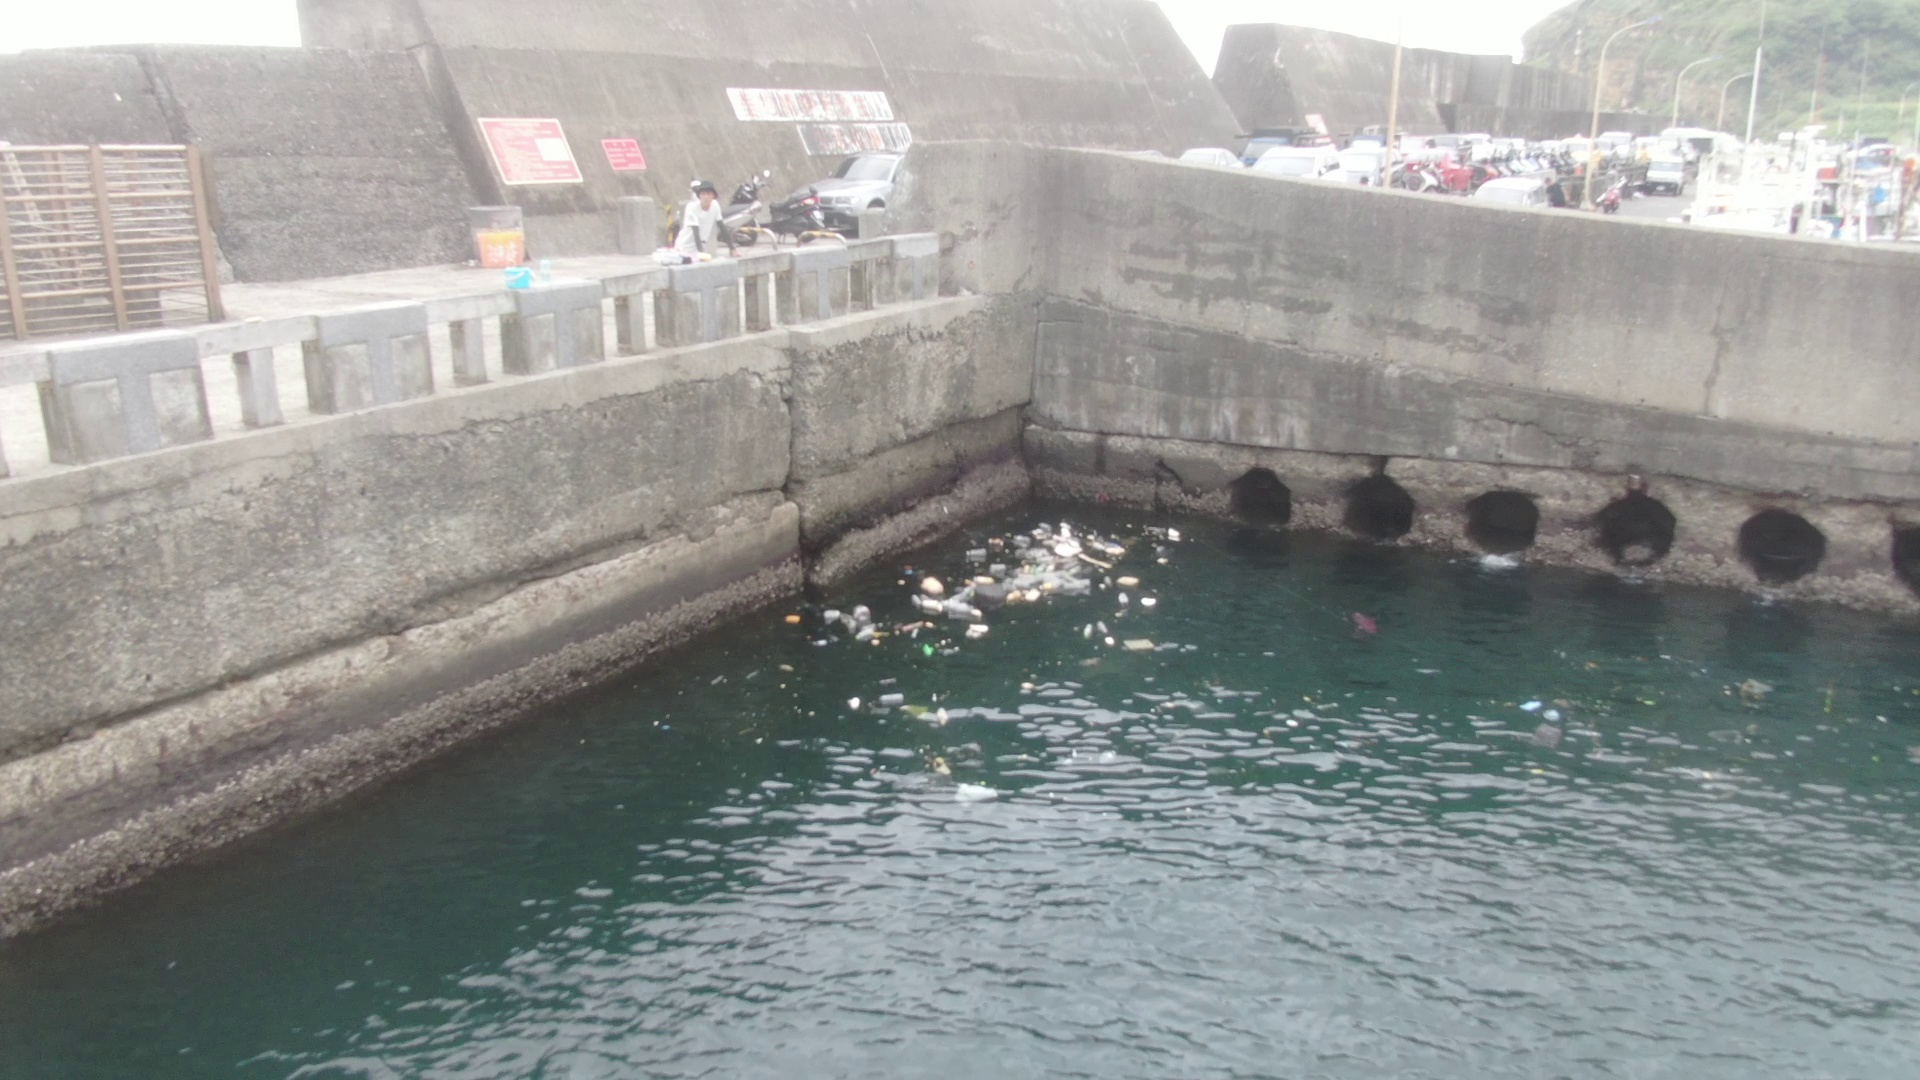garbage: (771, 501, 1197, 727)
